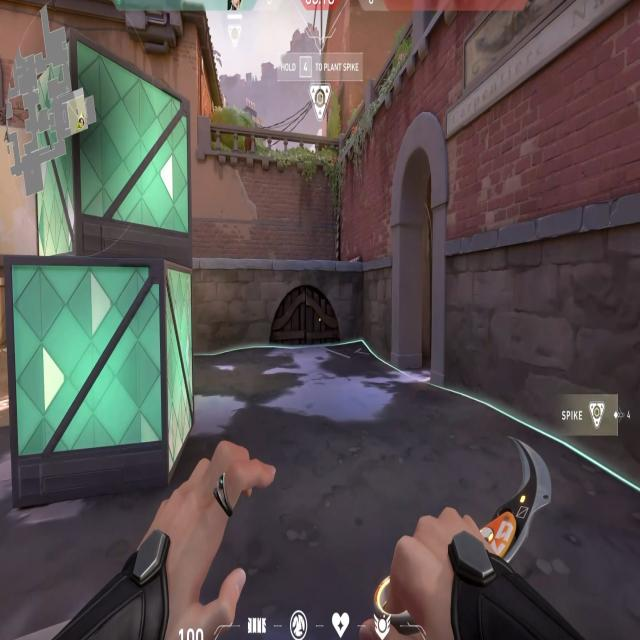B_Boathouse: (376, 101, 466, 405)
B_Site_Box: (0, 12, 226, 515)
